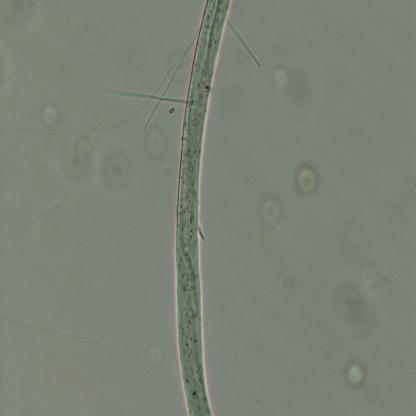Background material: (334, 278, 380, 339), (270, 66, 313, 116), (63, 10, 103, 62), (100, 146, 136, 195), (58, 137, 98, 172), (270, 265, 304, 303), (0, 1, 35, 28), (255, 193, 282, 225), (294, 163, 319, 197), (344, 361, 366, 388), (39, 105, 62, 128), (169, 108, 175, 114)
Glass filter fibre: (0, 50, 183, 140), (0, 205, 65, 305), (2, 166, 86, 242), (143, 33, 196, 130), (0, 312, 102, 347), (226, 20, 262, 68), (100, 88, 188, 105), (0, 195, 36, 227), (244, 44, 295, 60), (0, 63, 26, 90)
Microfibre: (175, 1, 231, 415)
